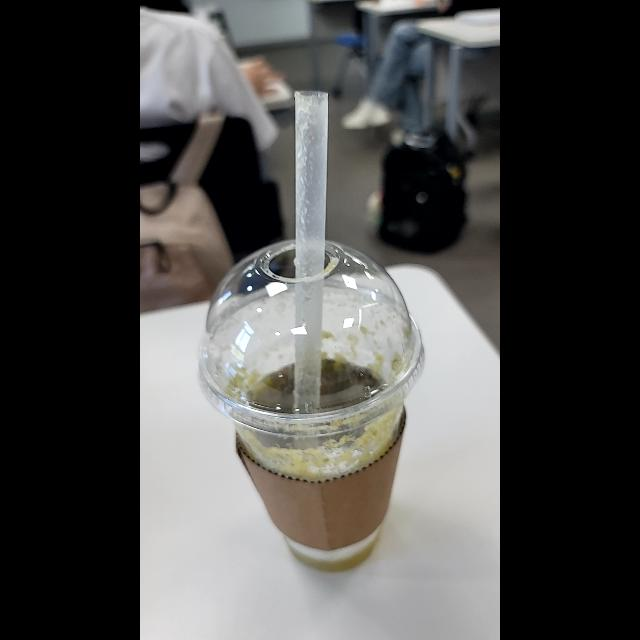plastic_cup: (192, 233, 426, 575)
plastic_cup_lid: (192, 235, 426, 438)
straw: (280, 88, 336, 416)
